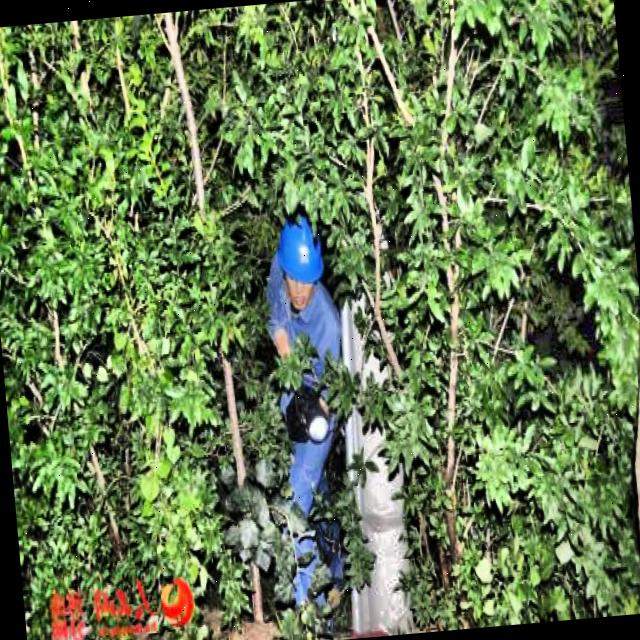helmet: (272, 213, 330, 315)
